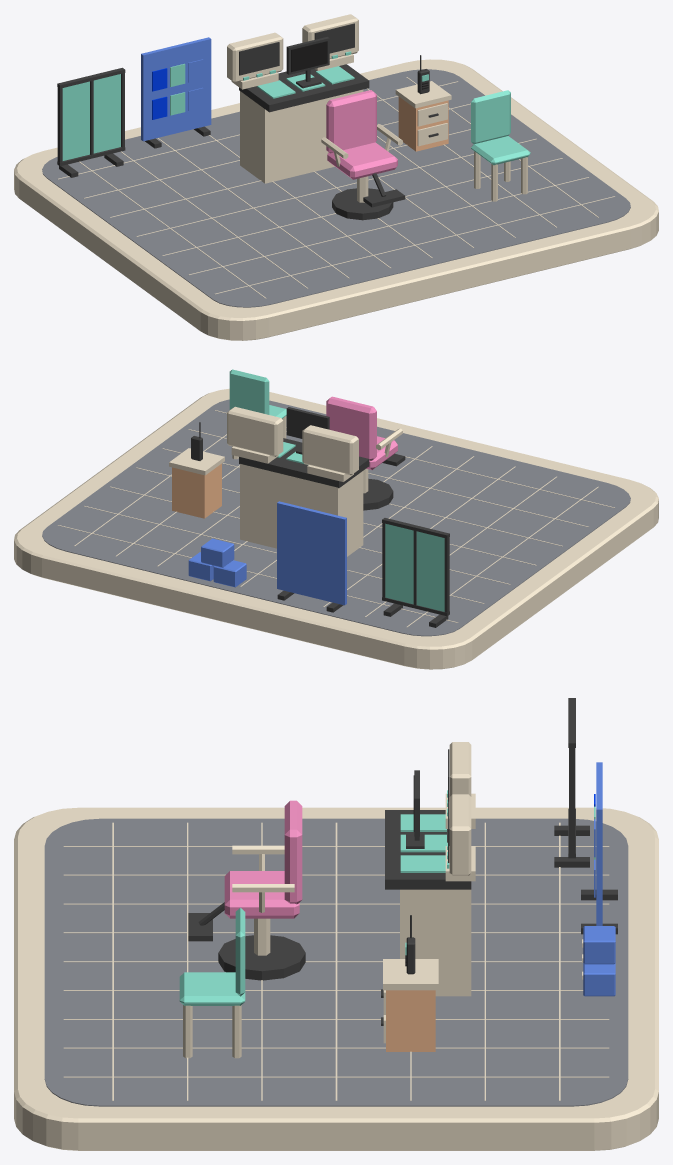
The picture shows the model from 3 angles, top to bottom: view 1: azimuth 30°, elevation 25°; view 2: azimuth 150°, elevation 25°; view 3: azimuth 270°, elevation 25°; orthographic projection. The views are drawn at different scales.
Visible parts, largest first — view 1: COM-02 Floor Surface, COM-01 Rounded Base Direct, Console, Panel.001, Back, Panel, Forward blue glazing, Forward blue glazing.001, Backrest, Seat, Frame, Housing (+11 smaller); view 2: COM-02 Floor Surface, COM-01 Rounded Base Direct, Panel.001, Console, Housing, Housing.001, Body, Forward blue glazing.001, Forward blue glazing, Back, Backrest, Panel (+7 smaller); view 3: COM-02 Floor Surface, COM-01 Rounded Base Direct, Console, Body, Panel, Base, Seat, Seat.001, Housing.001, Back, Top, Stacked case.002 (+15 smaller).
Part boxes in pixels (x1,y1,x2,y2): COM-02 Floor Surface: (42, 69, 630, 307); COM-01 Rounded Base Direct: (14, 59, 658, 340); Console: (240, 89, 363, 183); Panel.001: (141, 37, 211, 141); Back: (326, 90, 376, 153); Panel: (239, 64, 369, 112); Forward blue glazing: (62, 81, 89, 160); Forward blue glazing.001: (93, 74, 120, 153); Backrest: (471, 90, 510, 144); Seat: (327, 142, 397, 179); Frame: (286, 37, 329, 88); Housing: (227, 32, 283, 82); COM-02 Floor Surface: (42, 399, 630, 636); COM-01 Rounded Base Direct: (14, 388, 658, 669); Panel.001: (277, 501, 346, 605); Console: (240, 464, 363, 556); Housing: (302, 425, 358, 475); Housing.001: (227, 406, 283, 456); Body: (172, 463, 221, 518); Forward blue glazing.001: (385, 523, 413, 604); Forward blue glazing: (416, 531, 444, 611); Back: (326, 396, 376, 460); Backrest: (229, 369, 269, 414); Panel: (239, 438, 369, 488); COM-02 Floor Surface: (44, 818, 628, 1106); COM-01 Rounded Base Direct: (14, 807, 658, 1150); Console: (400, 889, 471, 996); Body: (386, 990, 435, 1051); Panel: (385, 810, 471, 889); Base: (218, 935, 305, 980); Seat: (224, 871, 299, 918); Seat.001: (179, 972, 245, 1005); Housing.001: (449, 794, 471, 875); Back: (284, 800, 302, 904); Top: (383, 959, 438, 990); Stacked case.002: (583, 926, 615, 964).
Size of the model in its own units: 6 by 1.88 by 5.2.
1 material, 1 textured.
